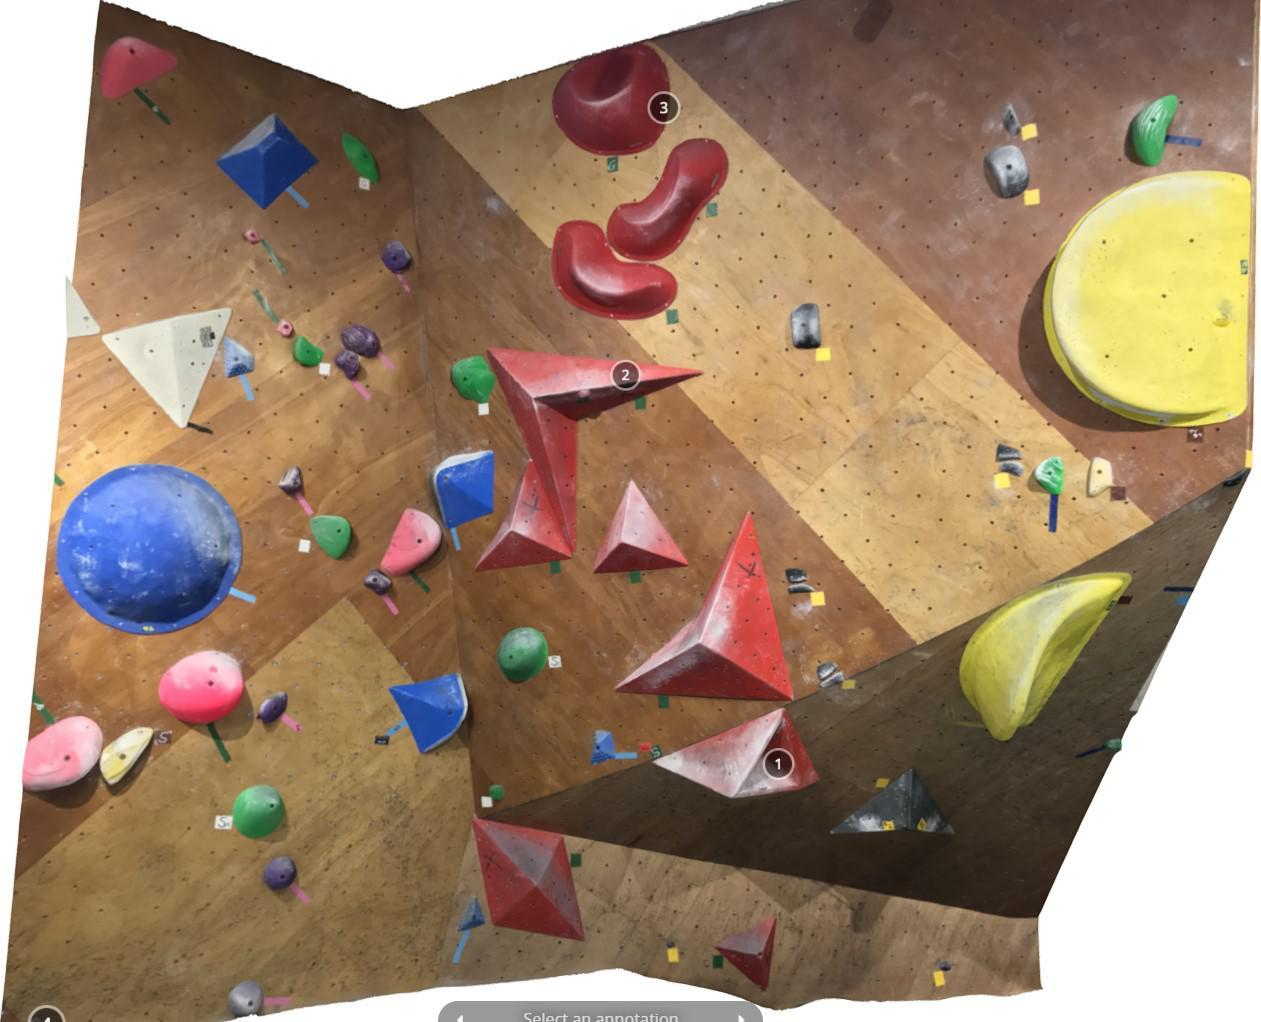hold: (1043, 170, 1252, 428), (486, 346, 705, 553), (613, 510, 794, 702), (56, 464, 243, 635), (960, 571, 1133, 740), (651, 706, 822, 799), (606, 138, 729, 261), (472, 818, 587, 942), (552, 44, 671, 155), (552, 220, 677, 319), (474, 458, 572, 571), (215, 113, 318, 209), (592, 479, 688, 575), (389, 673, 468, 754), (157, 652, 245, 725), (22, 715, 104, 792), (99, 36, 178, 100), (432, 449, 494, 529), (716, 915, 777, 991), (380, 508, 443, 577), (1130, 94, 1178, 167), (98, 726, 153, 786), (495, 625, 548, 683), (232, 785, 285, 838), (984, 144, 1029, 198), (451, 355, 496, 404), (342, 132, 381, 185), (309, 515, 353, 559), (791, 303, 821, 348), (223, 336, 254, 379), (227, 981, 264, 1017), (341, 325, 381, 358), (1033, 456, 1065, 494), (263, 856, 296, 890), (1088, 456, 1115, 496), (457, 895, 485, 932), (292, 336, 324, 367), (381, 240, 412, 272), (259, 691, 287, 723), (590, 729, 614, 764), (363, 567, 392, 595), (333, 350, 360, 381), (1001, 102, 1021, 137), (277, 466, 302, 493), (994, 443, 1023, 462), (1222, 468, 1248, 487), (819, 671, 844, 688), (998, 461, 1024, 477), (816, 662, 836, 680), (275, 318, 294, 337), (784, 568, 808, 583), (1211, 310, 1232, 326), (242, 226, 262, 243), (488, 784, 506, 801), (1104, 737, 1122, 753), (787, 583, 816, 592), (939, 960, 952, 971), (576, 390, 591, 398), (639, 743, 652, 753), (665, 941, 676, 948)
volume: (101, 308, 233, 430), (829, 768, 957, 835), (67, 276, 102, 338)
